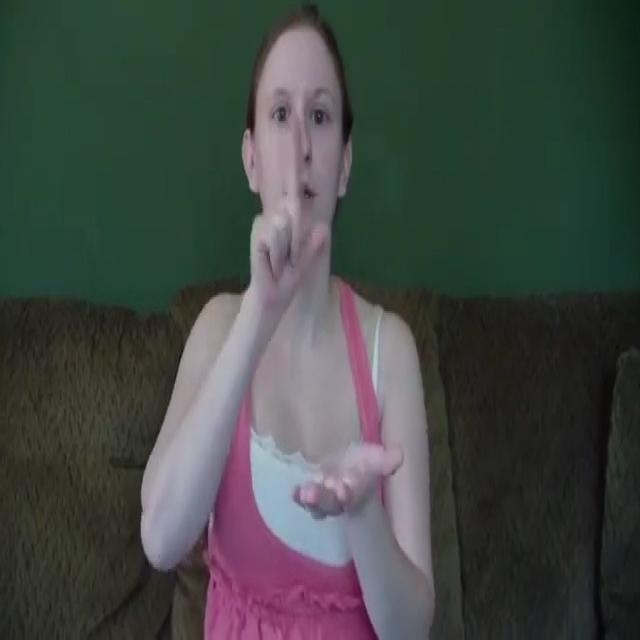chicken: (243, 106, 409, 536)
